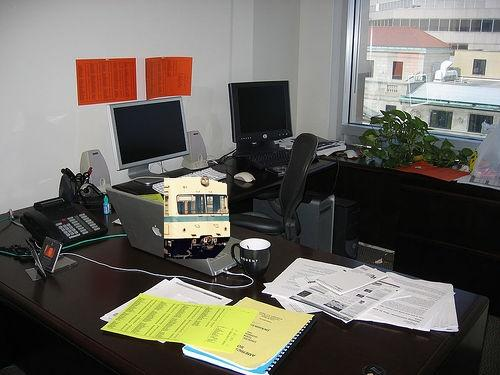tampered: (165, 176, 230, 259)
